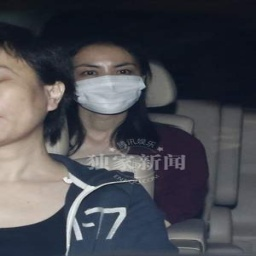correctlyWear: (73, 55, 148, 115)
noWear: (1, 58, 67, 146)
